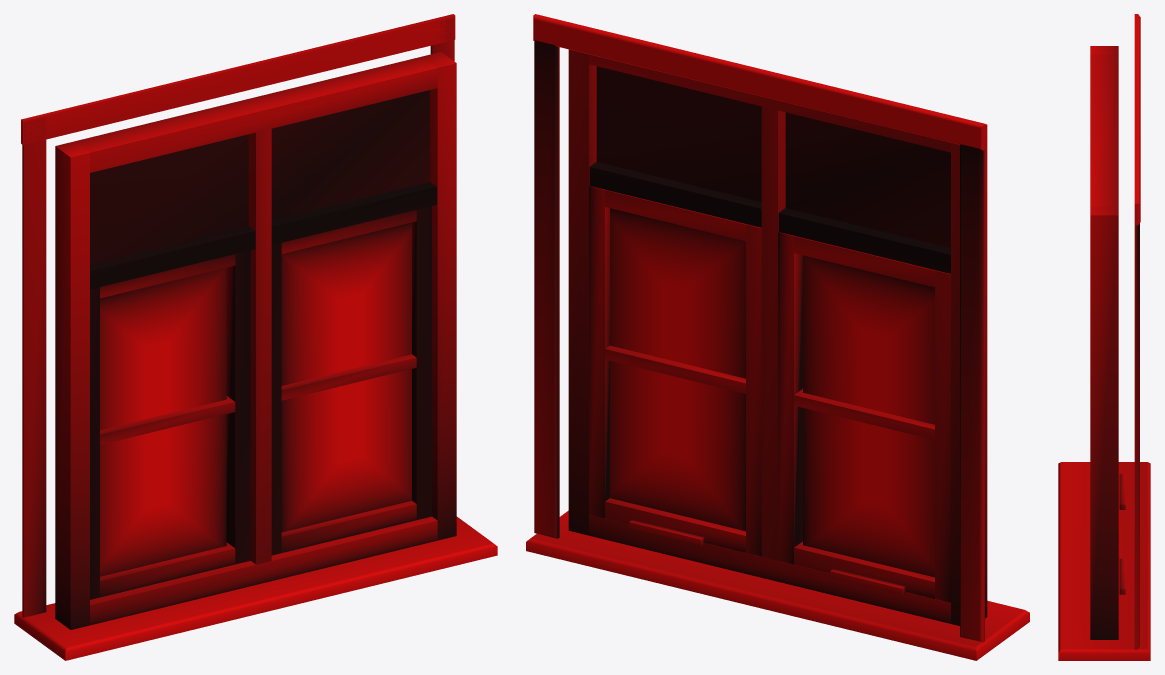
Rendered from CI_Shell_Window_Casement.fbx.
3 renders of one model, left to right at view 1: azimuth 30°, elevation 25°; view 2: azimuth 150°, elevation 25°; view 3: azimuth 270°, elevation 25°, orthographic. The views are drawn at different scales.
Parts seen in each view (by area): view 1: CI_Shell_Window_Casement; view 2: CI_Shell_Window_Casement; view 3: CI_Shell_Window_Casement.
Part boxes in pixels (bbox=[...]): CI_Shell_Window_Casement: bbox=[14, 14, 497, 660]; CI_Shell_Window_Casement: bbox=[526, 14, 1029, 660]; CI_Shell_Window_Casement: bbox=[1058, 14, 1150, 660].
Size of the model in its own units: 1.12 by 1.26 by 0.23.
